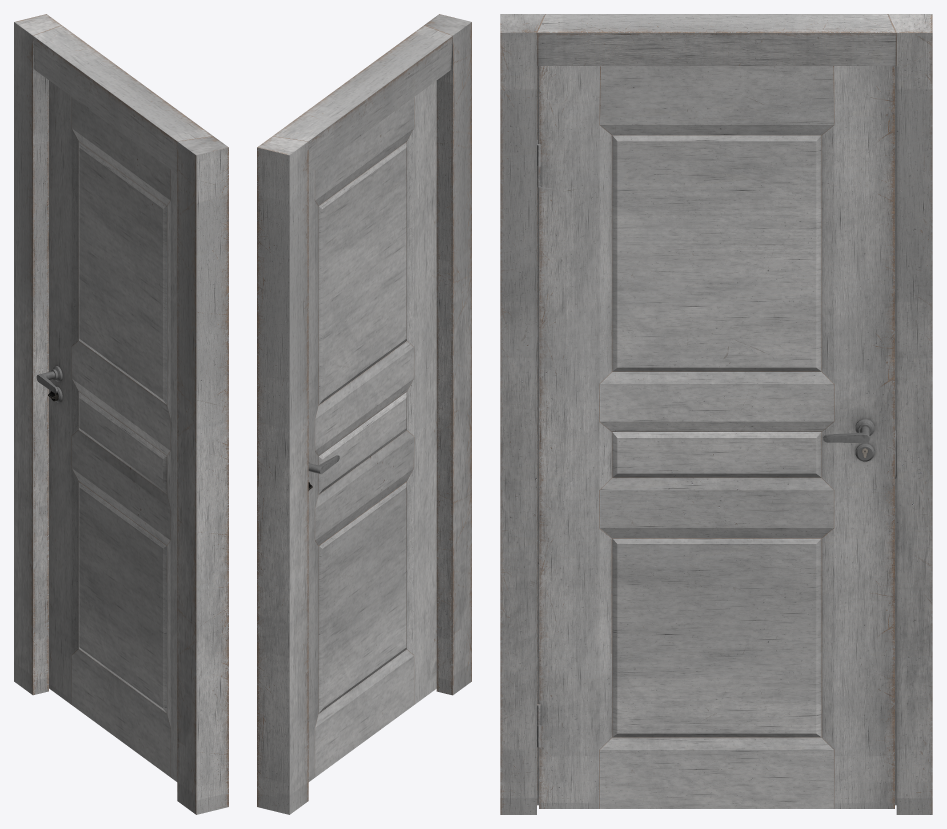
Rendered from Door.fbx.
3 views of the same model, side by side, from view 1: azimuth 30°, elevation 25°; view 2: azimuth 150°, elevation 25°; view 3: azimuth 270°, elevation 25° (orthographic). The views are drawn at different scales.
Parts seen in each view (by area): view 1: Dver', Rama, Ruchka; view 2: Dver', Rama; view 3: Dver', Rama.
Boxes of the visible parts, <box> form: Dver': <box>49,80,177,781</box>; Rama: <box>14,14,228,814</box>; Ruchka: <box>36,366,62,393</box>; Dver': <box>308,81,436,781</box>; Rama: <box>257,14,471,814</box>; Dver': <box>537,66,895,808</box>; Rama: <box>500,14,932,814</box>.
Size of the model in its own units: 18.49 by 223 by 112.
